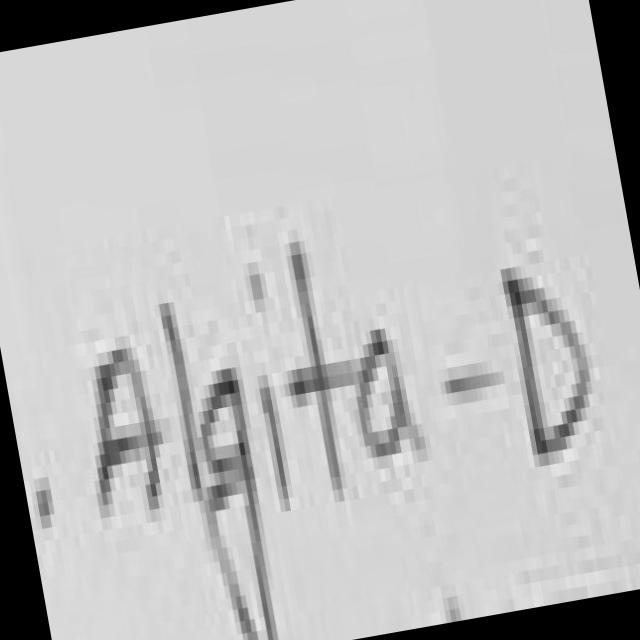A: (97, 348, 162, 503)
D: (509, 280, 594, 447)
a: (360, 328, 425, 457)
g: (203, 383, 278, 640)
i: (262, 387, 292, 505), (252, 275, 265, 306)
l: (162, 303, 205, 495)
t: (292, 241, 358, 495)
